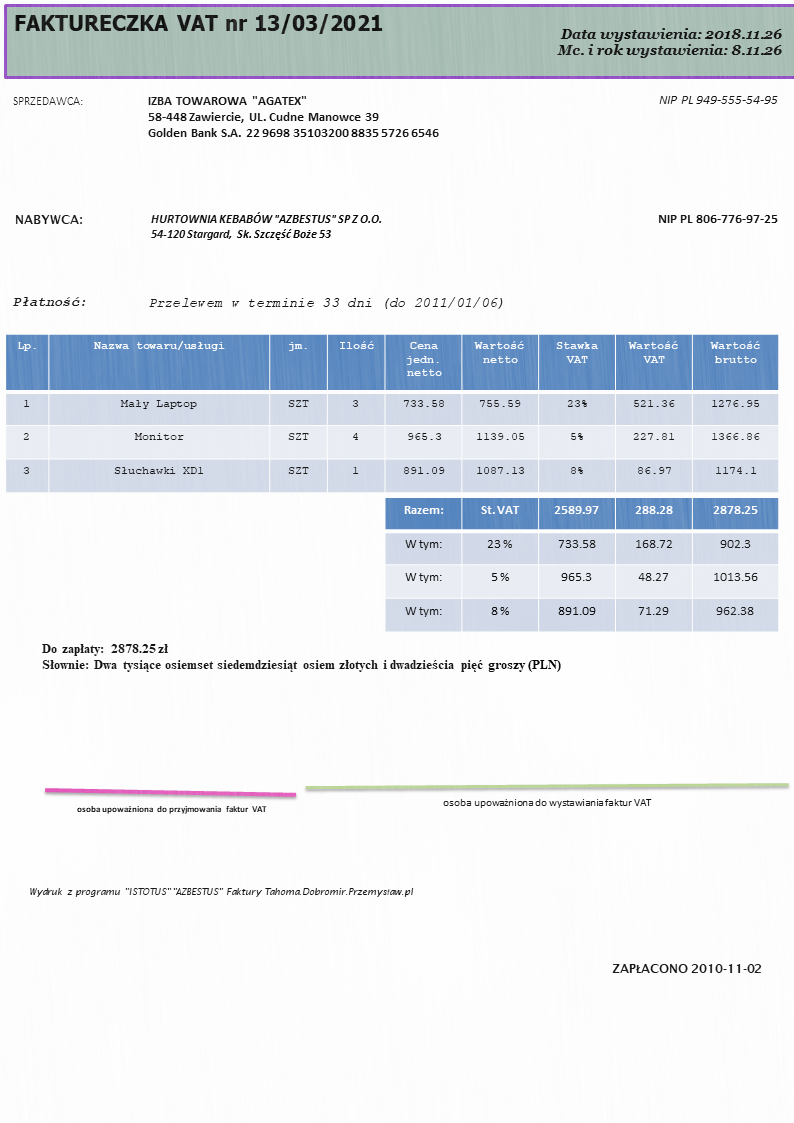Table: (4, 332, 780, 495), (384, 497, 779, 633)
TextBox: (39, 640, 564, 675), (145, 93, 441, 141), (11, 11, 384, 37), (553, 25, 783, 60), (149, 212, 384, 241), (27, 884, 416, 900), (148, 295, 506, 312), (440, 796, 652, 810), (74, 802, 267, 816), (609, 959, 762, 976), (655, 212, 778, 226), (657, 93, 779, 107), (11, 293, 88, 310), (11, 92, 84, 109), (12, 211, 83, 227)
